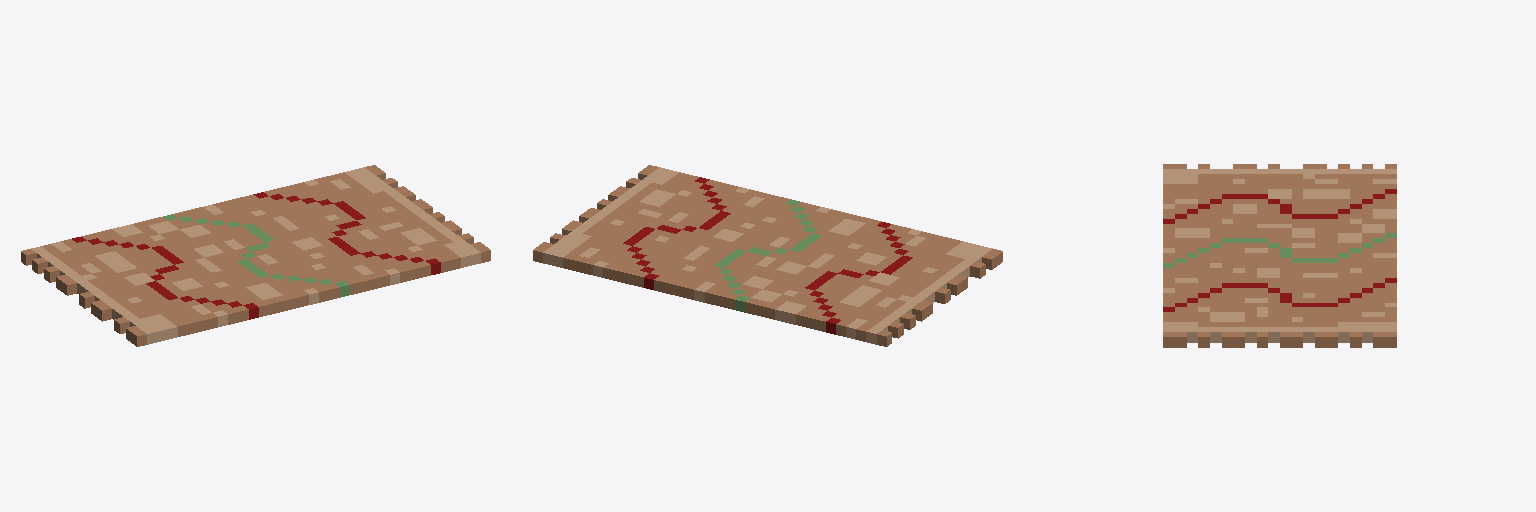
3 renders of one model, left to right at view 1: azimuth 30°, elevation 25°; view 2: azimuth 150°, elevation 25°; view 3: azimuth 270°, elevation 25°, orthographic.
Parts seen in each view (by area): view 1: object 1; view 2: object 1; view 3: object 1.
Part boxes in pixels (x1,y1,x2,y2): object 1: (21,165,490,346); object 1: (533,165,1002,346); object 1: (1163,164,1396,347).
Bounding box in the file's own units: 3.5 × 0.1 × 2.
Materials: 1 (1 with a texture image).